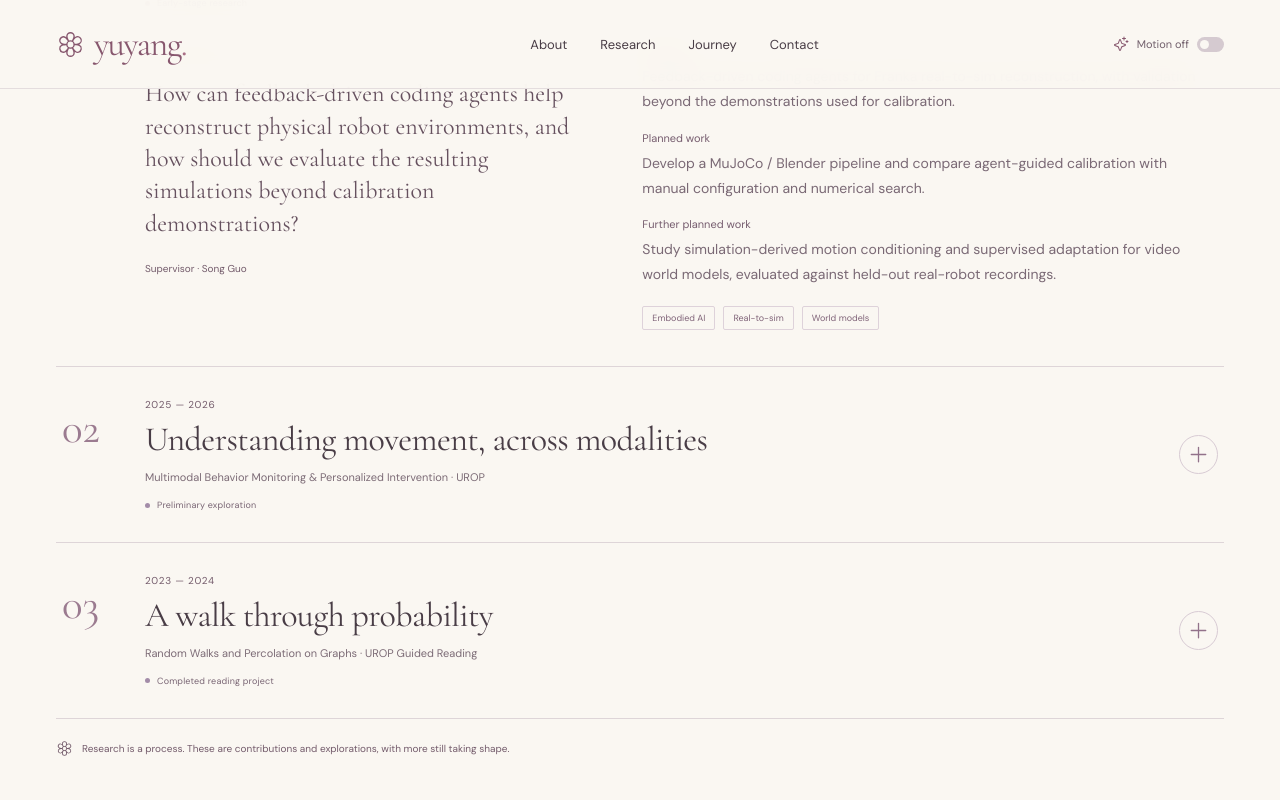
Scenario: Research garden › opens research details while preserving the distinction between completed and planned work
(page scrolled)
Expected: the heading "Further planned work" is shown, [642,217,751,231]
Click the button "Understanding movement, across modalities": (640, 455) [56,367,1224,542]
(page scrolled)
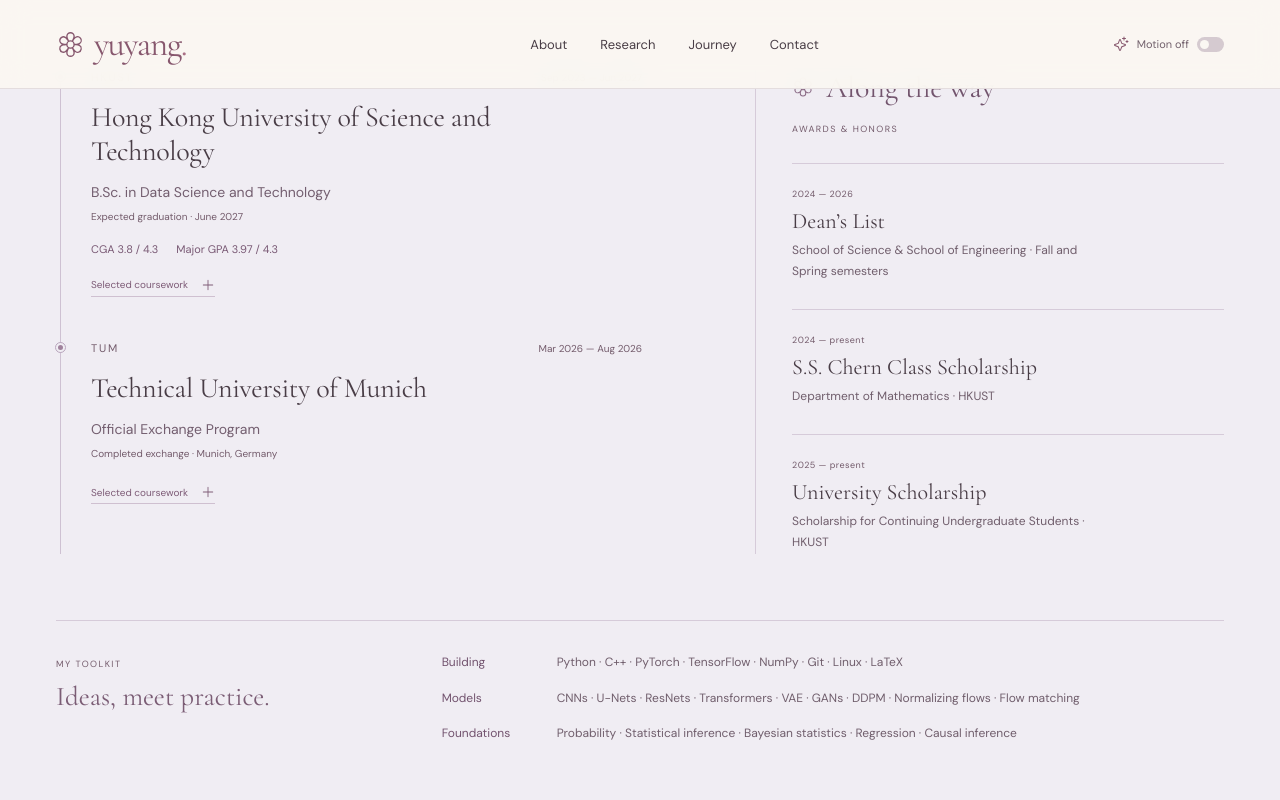
Expected: the text "Completed exchange · Munich, Germany" is shown, [91,447,277,460]
Expected: the heading "Further planned work" is gone
